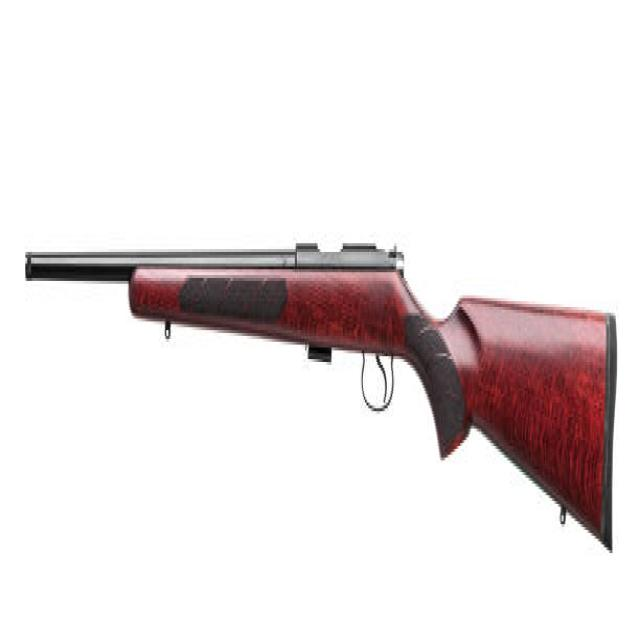rifle: (22, 224, 626, 567)
